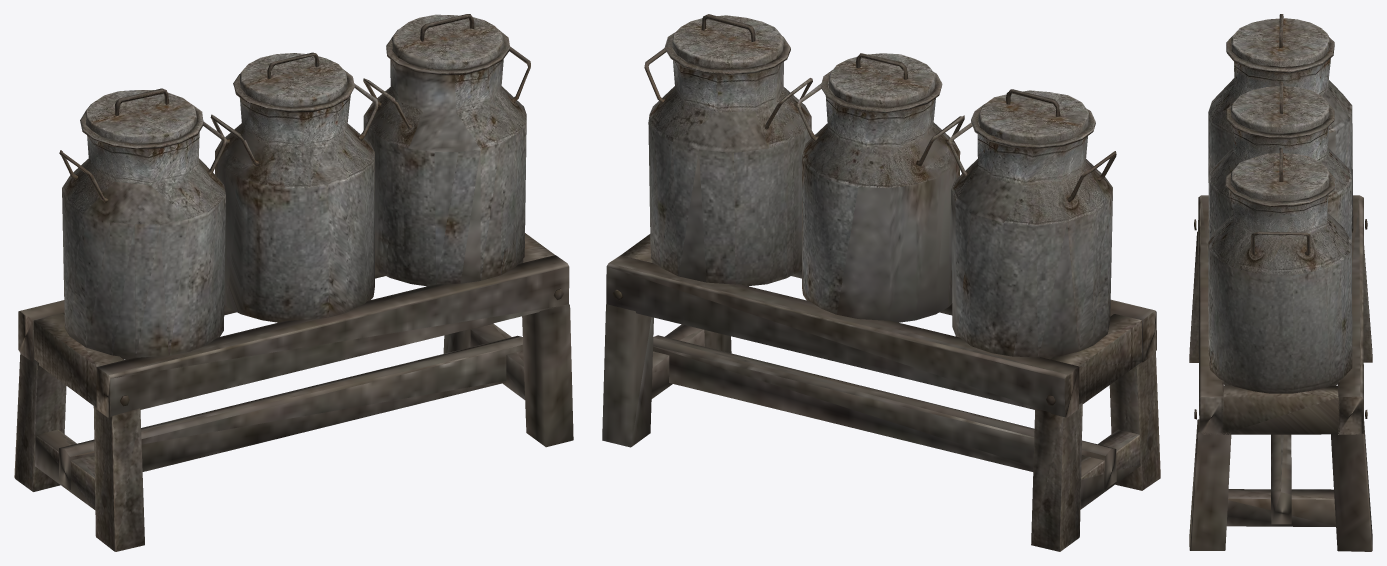
Rendered from milk_churns.glb.
3 views of the same model, side by side, from view 1: azimuth 30°, elevation 25°; view 2: azimuth 150°, elevation 25°; view 3: azimuth 270°, elevation 25° (orthographic). The views are drawn at different scales.
Bounding box in the file's own units: 1.19 × 1 × 0.4593.
Materials: 1 (1 with a texture image).
